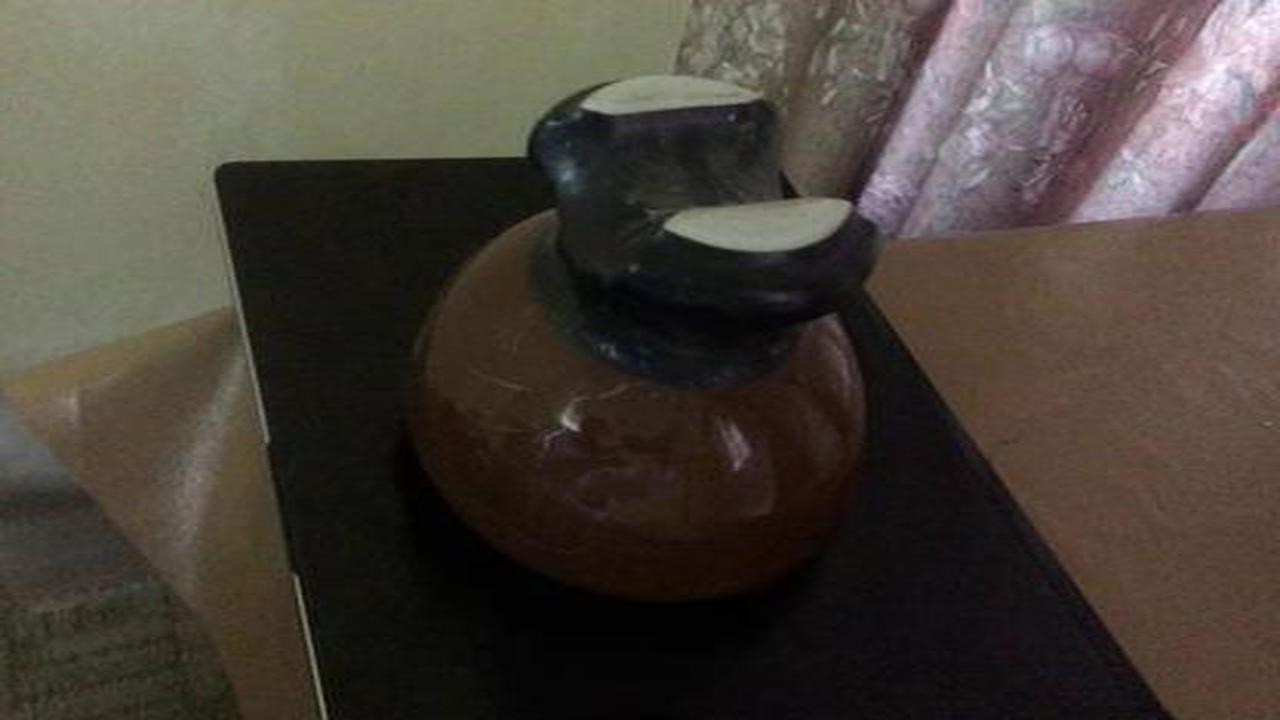insulator_pin: (379, 49, 905, 622)
